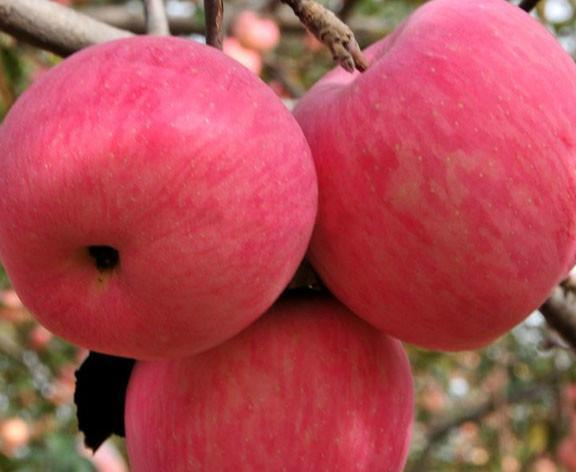apple: (7, 38, 323, 360), (285, 1, 574, 346), (122, 290, 420, 470)
